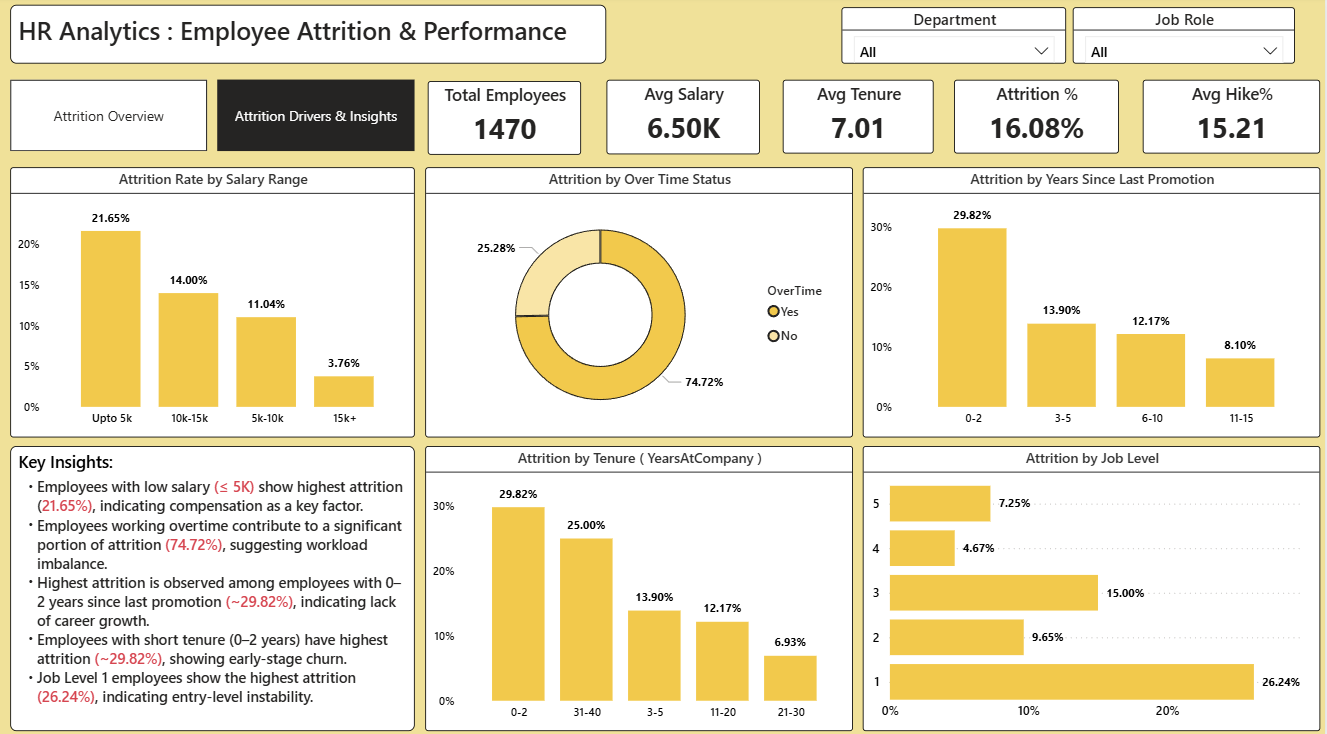

The dashboard page shown, as its layout file describes it:
{"tool":"powerbi","page":{"name":"Attrition Drivers & Insights","canvas":[1280,720],"ordinal":1},"visuals":[{"type":"columnChart","title":"Attrition Rate by Salary Range","fields":{"Y":["_Measure.Attrition%"],"Category":["HR_Analytics.SalarySlab"]},"box":[11,165.1,390.1,260.5],"z":0},{"type":"donutChart","title":"Attrition by Over Time Status","fields":{"Y":["_Measure.Attrition%"],"Category":["HR_Analytics.OverTime"]},"box":[411.4,165.3,412.6,260.6],"z":1000},{"type":"barChart","title":"Attrition by Job Level","fields":{"Y":["_Measure.Attrition%"],"Category":["HR_Analytics.JobLevel"]},"box":[833.7,434.3,441.6,275.1],"z":2000},{"type":"columnChart","title":"Attrition by Tenure ( YearsAtCompany )","fields":{"Category":["HR_Analytics.YearsAtCompany Group"],"Y":["_Measure.Attrition%"]},"box":[411.4,434.3,412.6,275.1],"z":3000},{"type":"columnChart","title":"Attrition by Years Since Last Promotion","fields":{"Category":["HR_Analytics.YearsSinceLastPromotion Group"],"Y":["_Measure.Attrition%"]},"box":[834,165.1,441.4,260.5],"z":4000},{"type":"card","title":"Avg Tenure","fields":{"Values":["Avg(HR_Analytics.YearsAtCompany)"]},"box":[756.9,80.7,145.5,70.9],"z":5000},{"type":"card","title":"Avg Hike%","fields":{"Values":["Avg(HR_Analytics.PercentSalaryHike)"]},"box":[1104.2,80.7,171.2,70.9],"z":6000},{"type":"card","title":"Attrition %","fields":{"Values":["_Measure.Attrition%"]},"box":[922,80.7,159,70.9],"z":7000},{"type":"card","title":"Total Employees","fields":{"Values":["Count(HR_Analytics.EmpID)"]},"box":[413.3,81.9,148,70.9],"z":8000},{"type":"card","title":"Avg Salary","fields":{"Values":["Avg(HR_Analytics.MonthlyIncome)"]},"box":[585.7,80.7,148,72.1],"z":9000},{"type":"slicer","title":"Job Role","fields":{"Values":["HR_Analytics.JobRole"]},"box":[1036.3,10.9,214.7,54.3],"z":10000},{"type":"slicer","title":"Department","fields":{"Values":["HR_Analytics.Department"]},"box":[813.1,10.9,217.2,54.3],"z":11000},{"type":"pageNavigator","box":[11,80.7,390.1,69.7],"z":12000},{"type":"textbox","box":[10.9,8.4,575.5,56.7],"z":13000},{"type":"textbox","title":"Key Insights:","box":[11,434,390,275],"z":14000}]}

Visuals, with their boxes in screenshot pixels (x1, y1, x2, y2), scaled from the page's 1280x720 canvas onto the 1327x734 screenshot:
"Attrition Rate by Salary Range" columnChart: rect(11, 168, 416, 434)
"Attrition by Over Time Status" donutChart: rect(427, 169, 854, 434)
"Attrition by Job Level" barChart: rect(864, 443, 1322, 723)
"Attrition by Tenure ( YearsAtCompany )" columnChart: rect(427, 443, 854, 723)
"Attrition by Years Since Last Promotion" columnChart: rect(865, 168, 1322, 434)
"Avg Tenure" card: rect(785, 82, 936, 155)
"Avg Hike%" card: rect(1145, 82, 1322, 155)
"Attrition %" card: rect(956, 82, 1121, 155)
"Total Employees" card: rect(428, 83, 582, 156)
"Avg Salary" card: rect(607, 82, 761, 156)
"Job Role" slicer: rect(1074, 11, 1297, 66)
"Department" slicer: rect(843, 11, 1068, 66)
pageNavigator: rect(11, 82, 416, 153)
textbox: rect(11, 9, 608, 66)
"Key Insights:" textbox: rect(11, 442, 416, 723)
